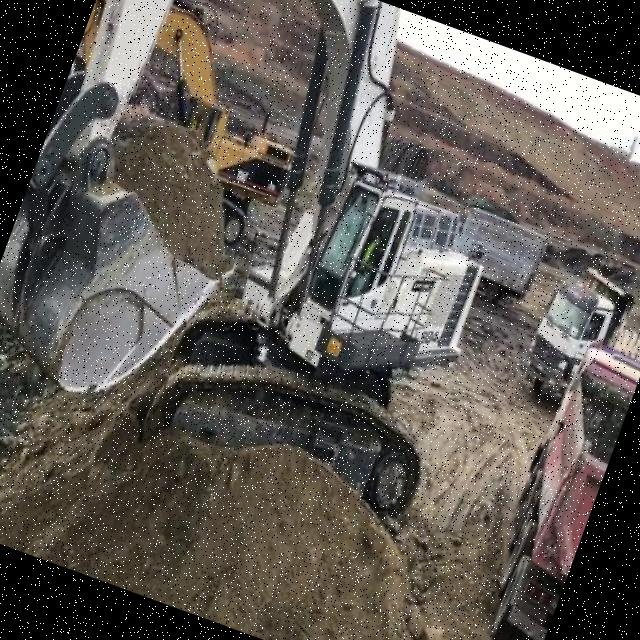Dump Truck: (466, 331, 640, 640), (515, 253, 640, 426), (441, 202, 554, 314)
Excavator: (0, 0, 568, 537), (32, 0, 338, 258)
